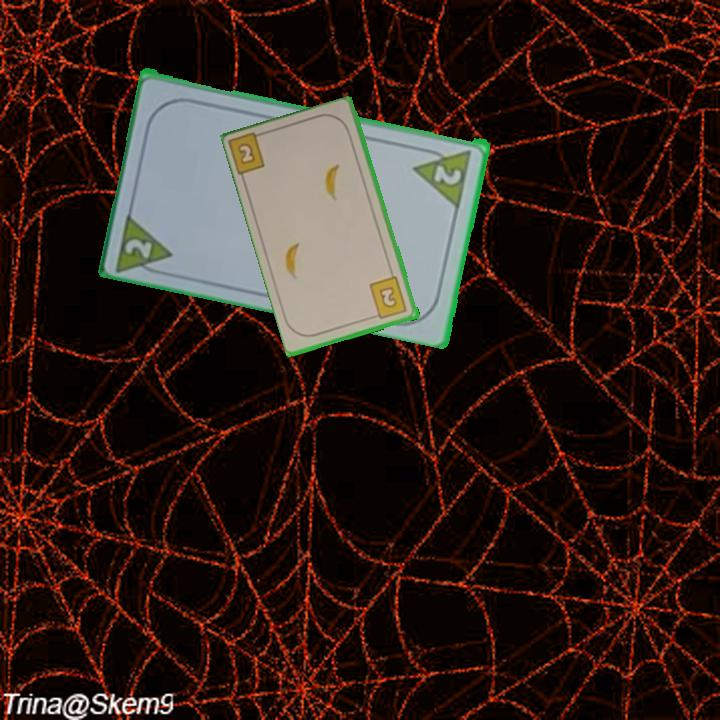2b: (227, 128, 270, 179), (366, 273, 410, 322)
2p: (411, 142, 475, 208), (121, 234, 156, 261)
